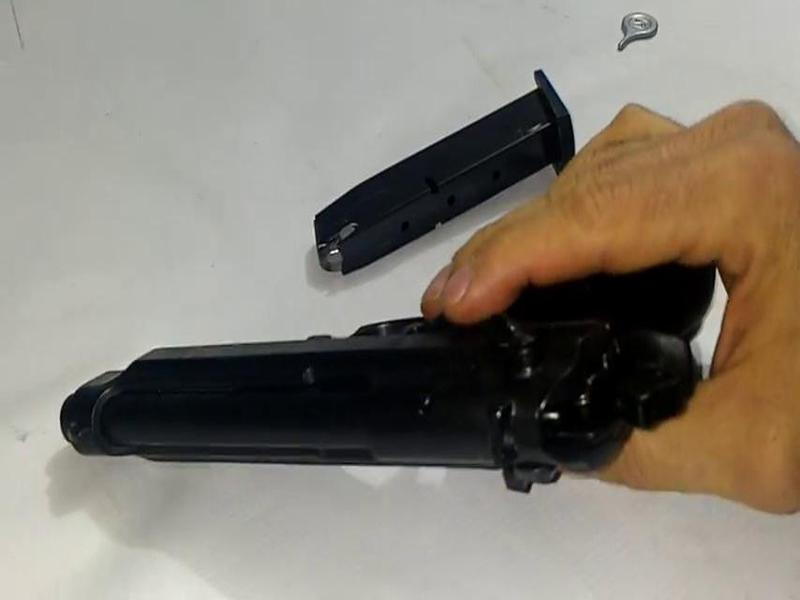Pistola: (57, 226, 716, 521)
